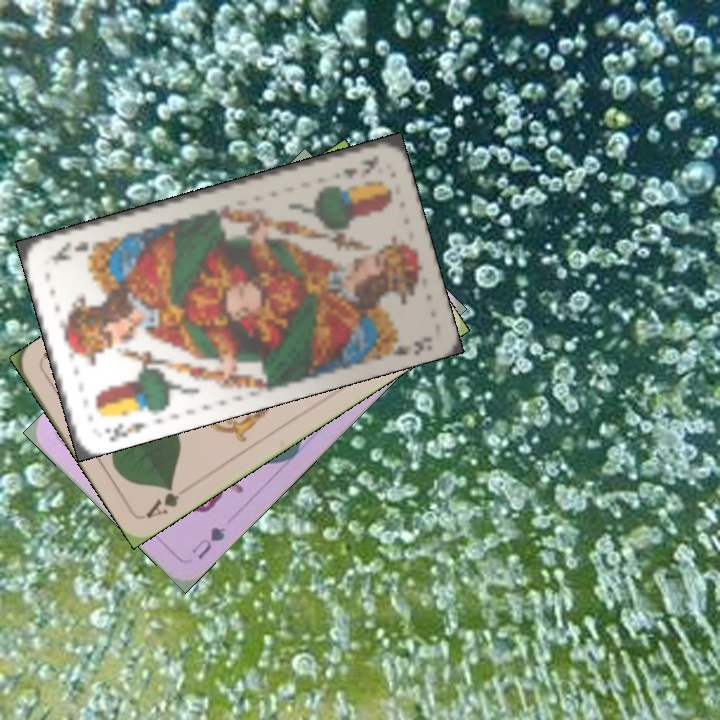EK: (338, 151, 381, 181), (100, 418, 149, 443)
GA: (141, 481, 183, 521)
GU: (187, 523, 229, 562)
